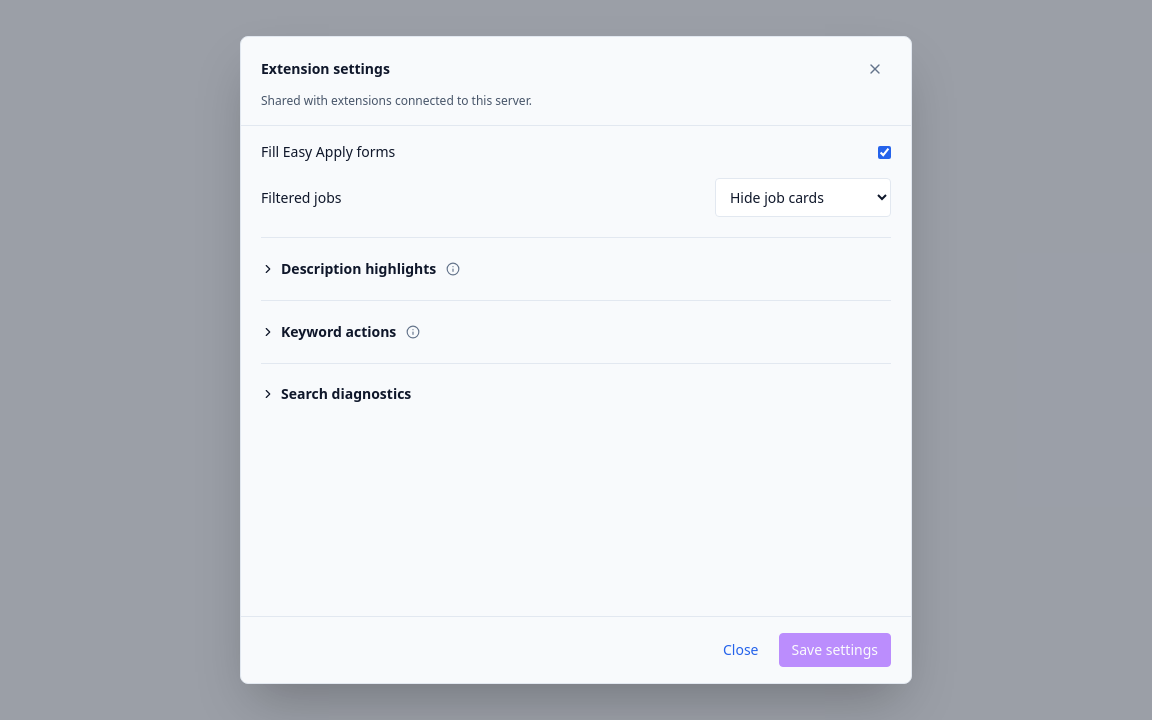
Test case: Extension settings › keeps diagnostics collapsed, explains capture in a tooltip, and stages scope changes
Click the heading "Search diagnostics" at (336, 394), box x1=261 y1=384 x2=411 y2=403
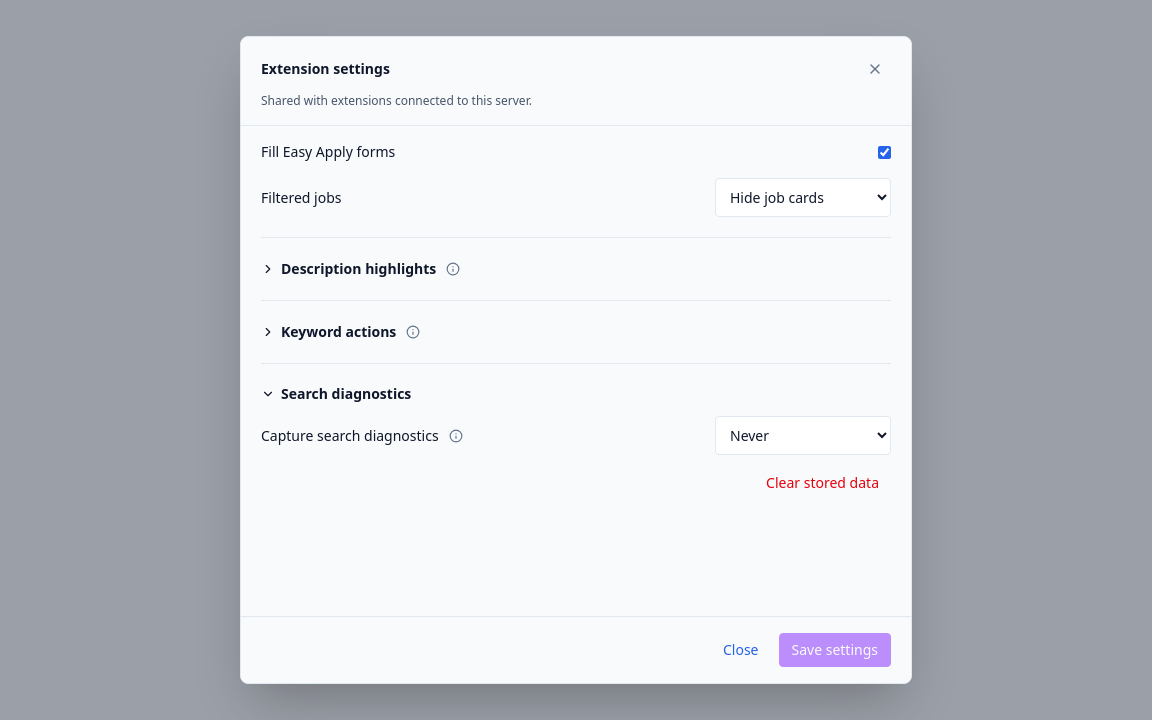
Focus the button named "About search diagnostics" at (456, 436), box x1=445 y1=424 x2=467 y2=446
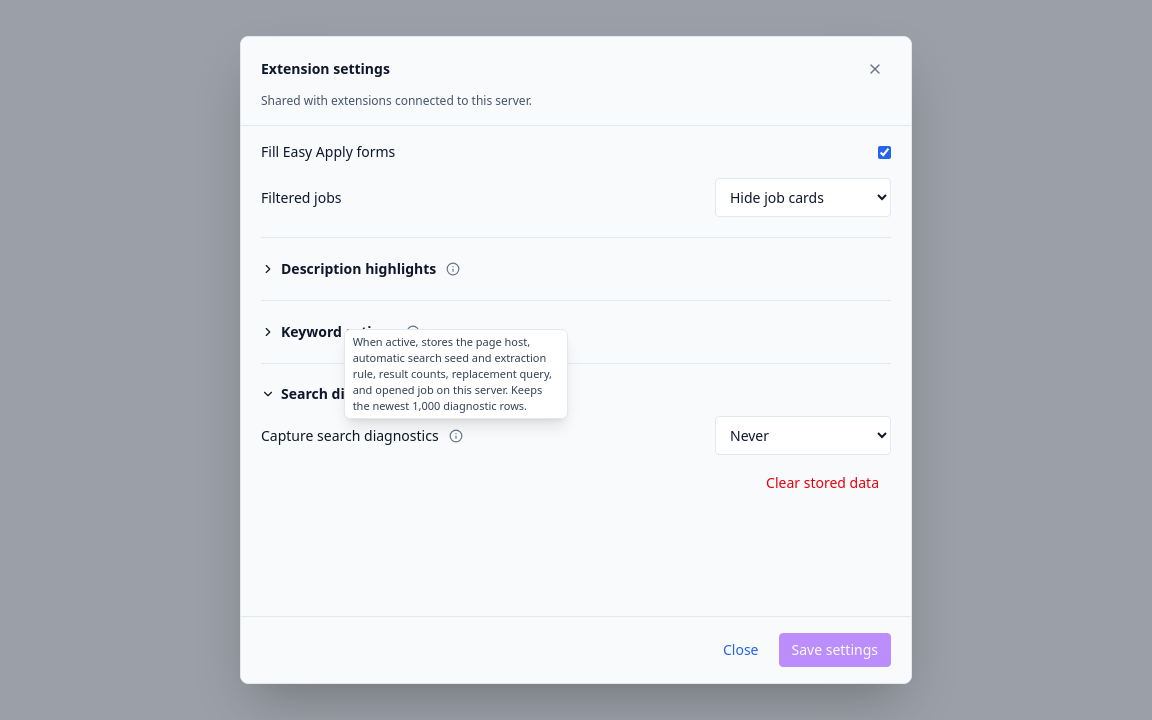
Now the tooltip shows "automatic search seed", box x1=353 y1=334 x2=552 y2=412
Leave the button named "About search diagnostics", box x1=445 y1=424 x2=467 y2=446
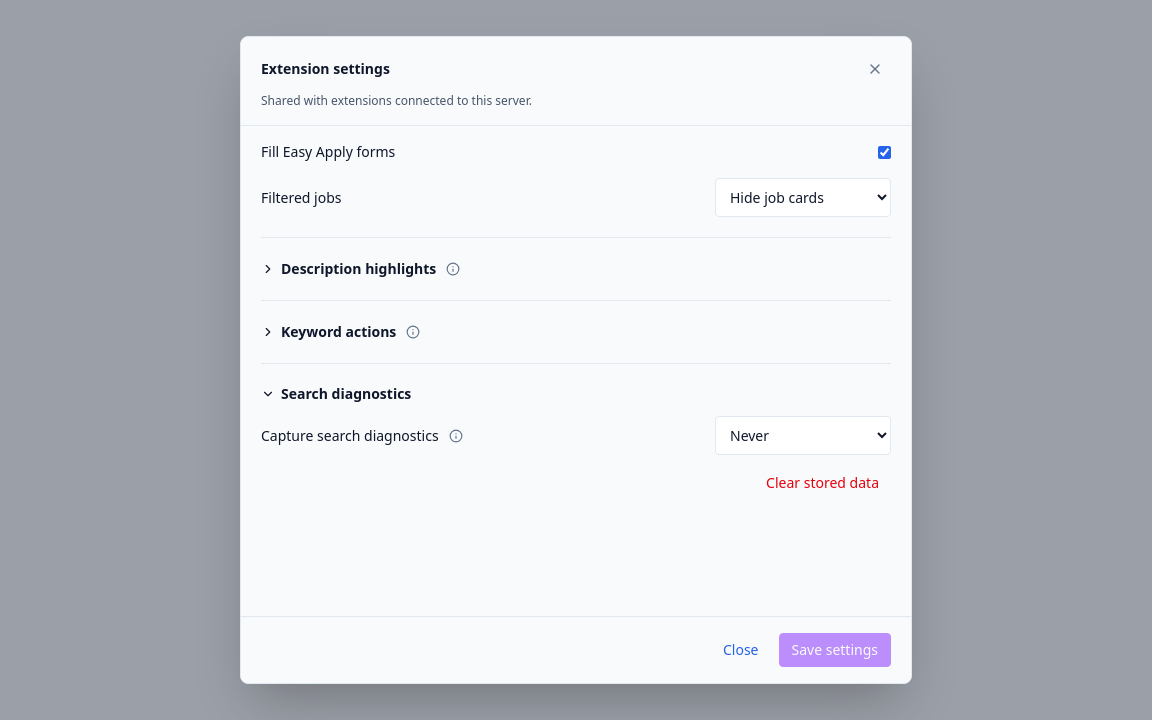
Now the tooltip is gone
Select "For 30 minutes" in the dropdown labelled "Capture search diagnostics" at (803, 436), box x1=715 y1=416 x2=891 y2=455
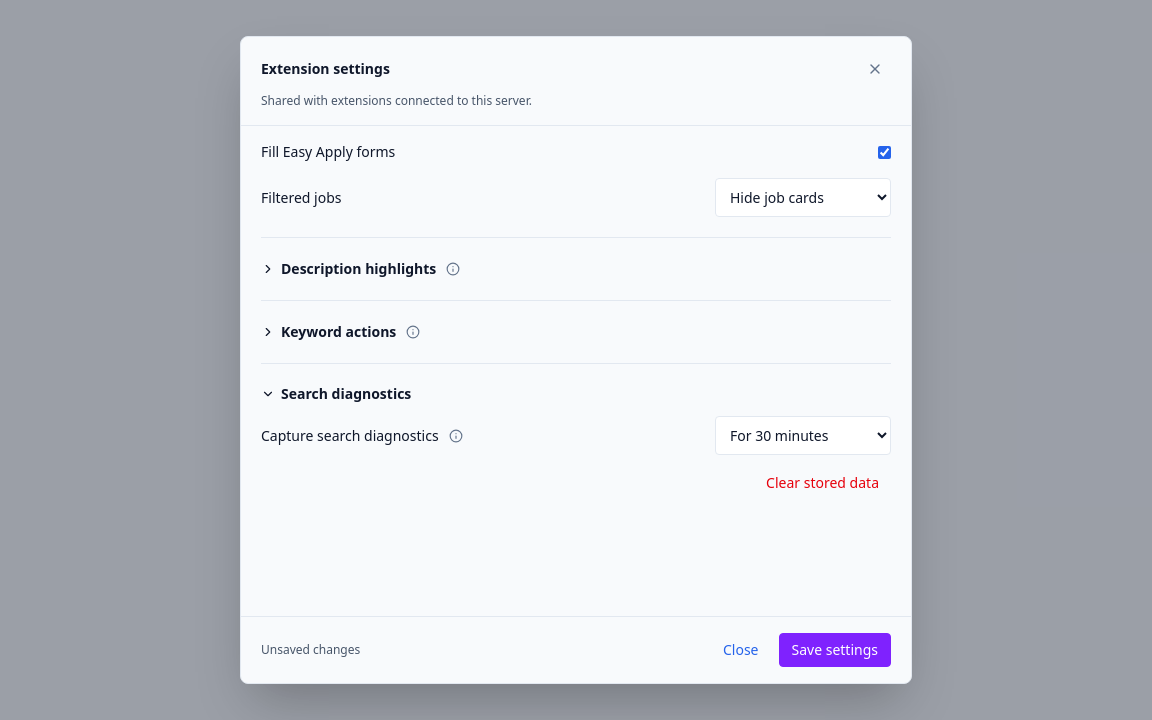
Now the button "Save settings" is enabled, box x1=778 y1=633 x2=891 y2=667
